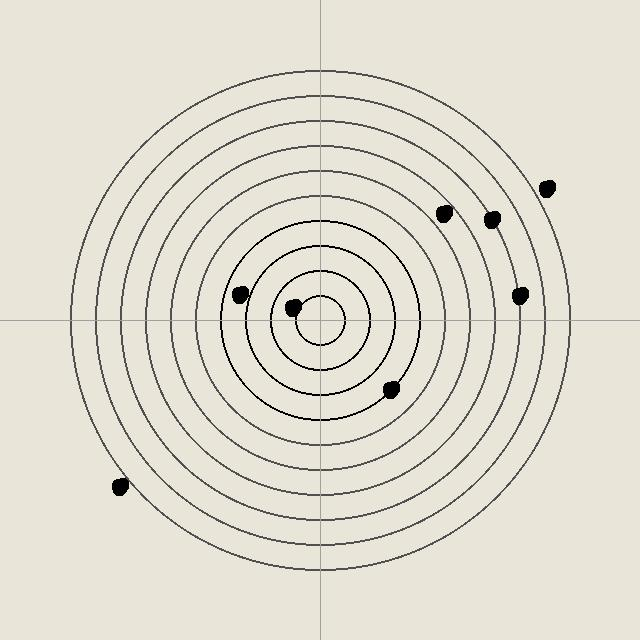random_scatter: (509, 285, 529, 305), (109, 476, 129, 496), (433, 203, 453, 223), (229, 284, 249, 304), (380, 379, 400, 399), (282, 297, 302, 317), (536, 178, 556, 198), (481, 209, 501, 229)
